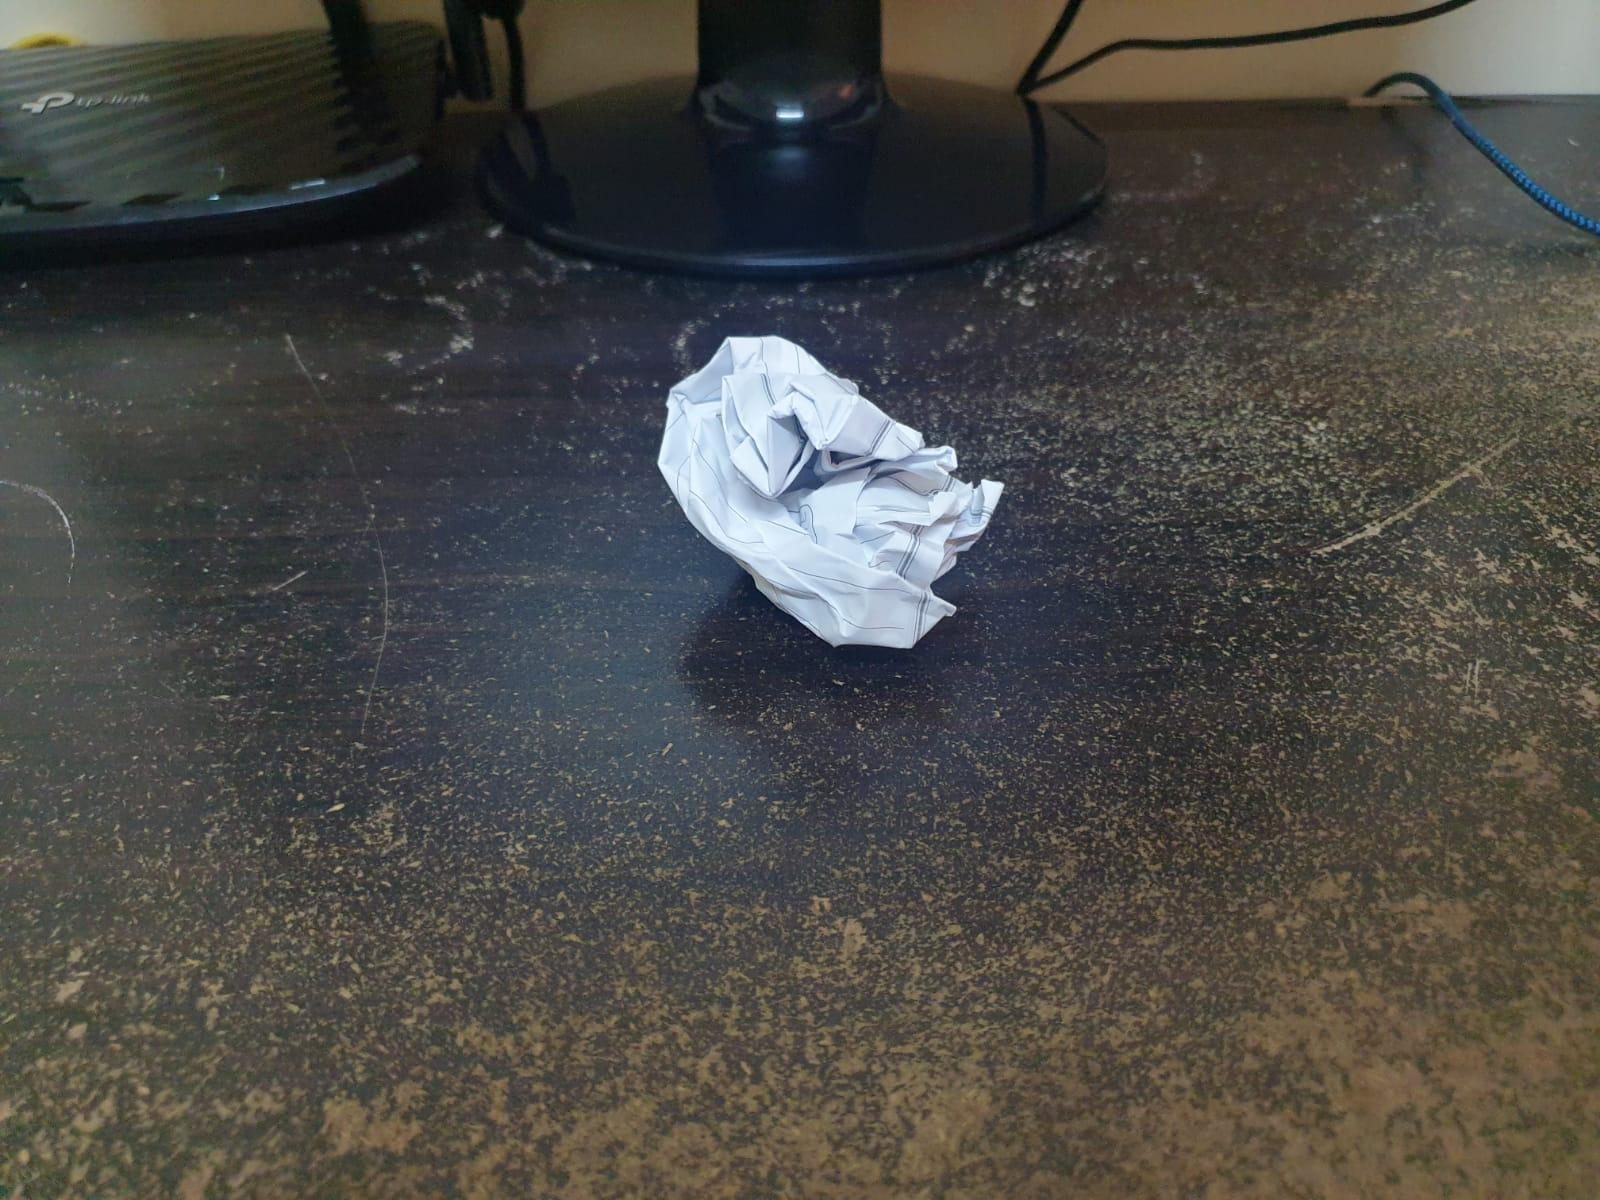Paper: (653, 313, 1034, 658)
